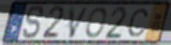2: (42, 5, 66, 40), (104, 5, 128, 40)
C: (126, 8, 150, 39)
O: (84, 6, 107, 40)
S: (21, 5, 45, 41)
V: (68, 5, 91, 40)
